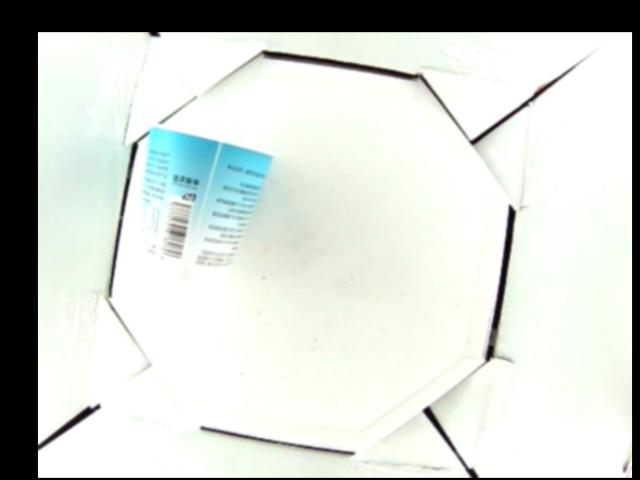Cup: (132, 121, 278, 283)
